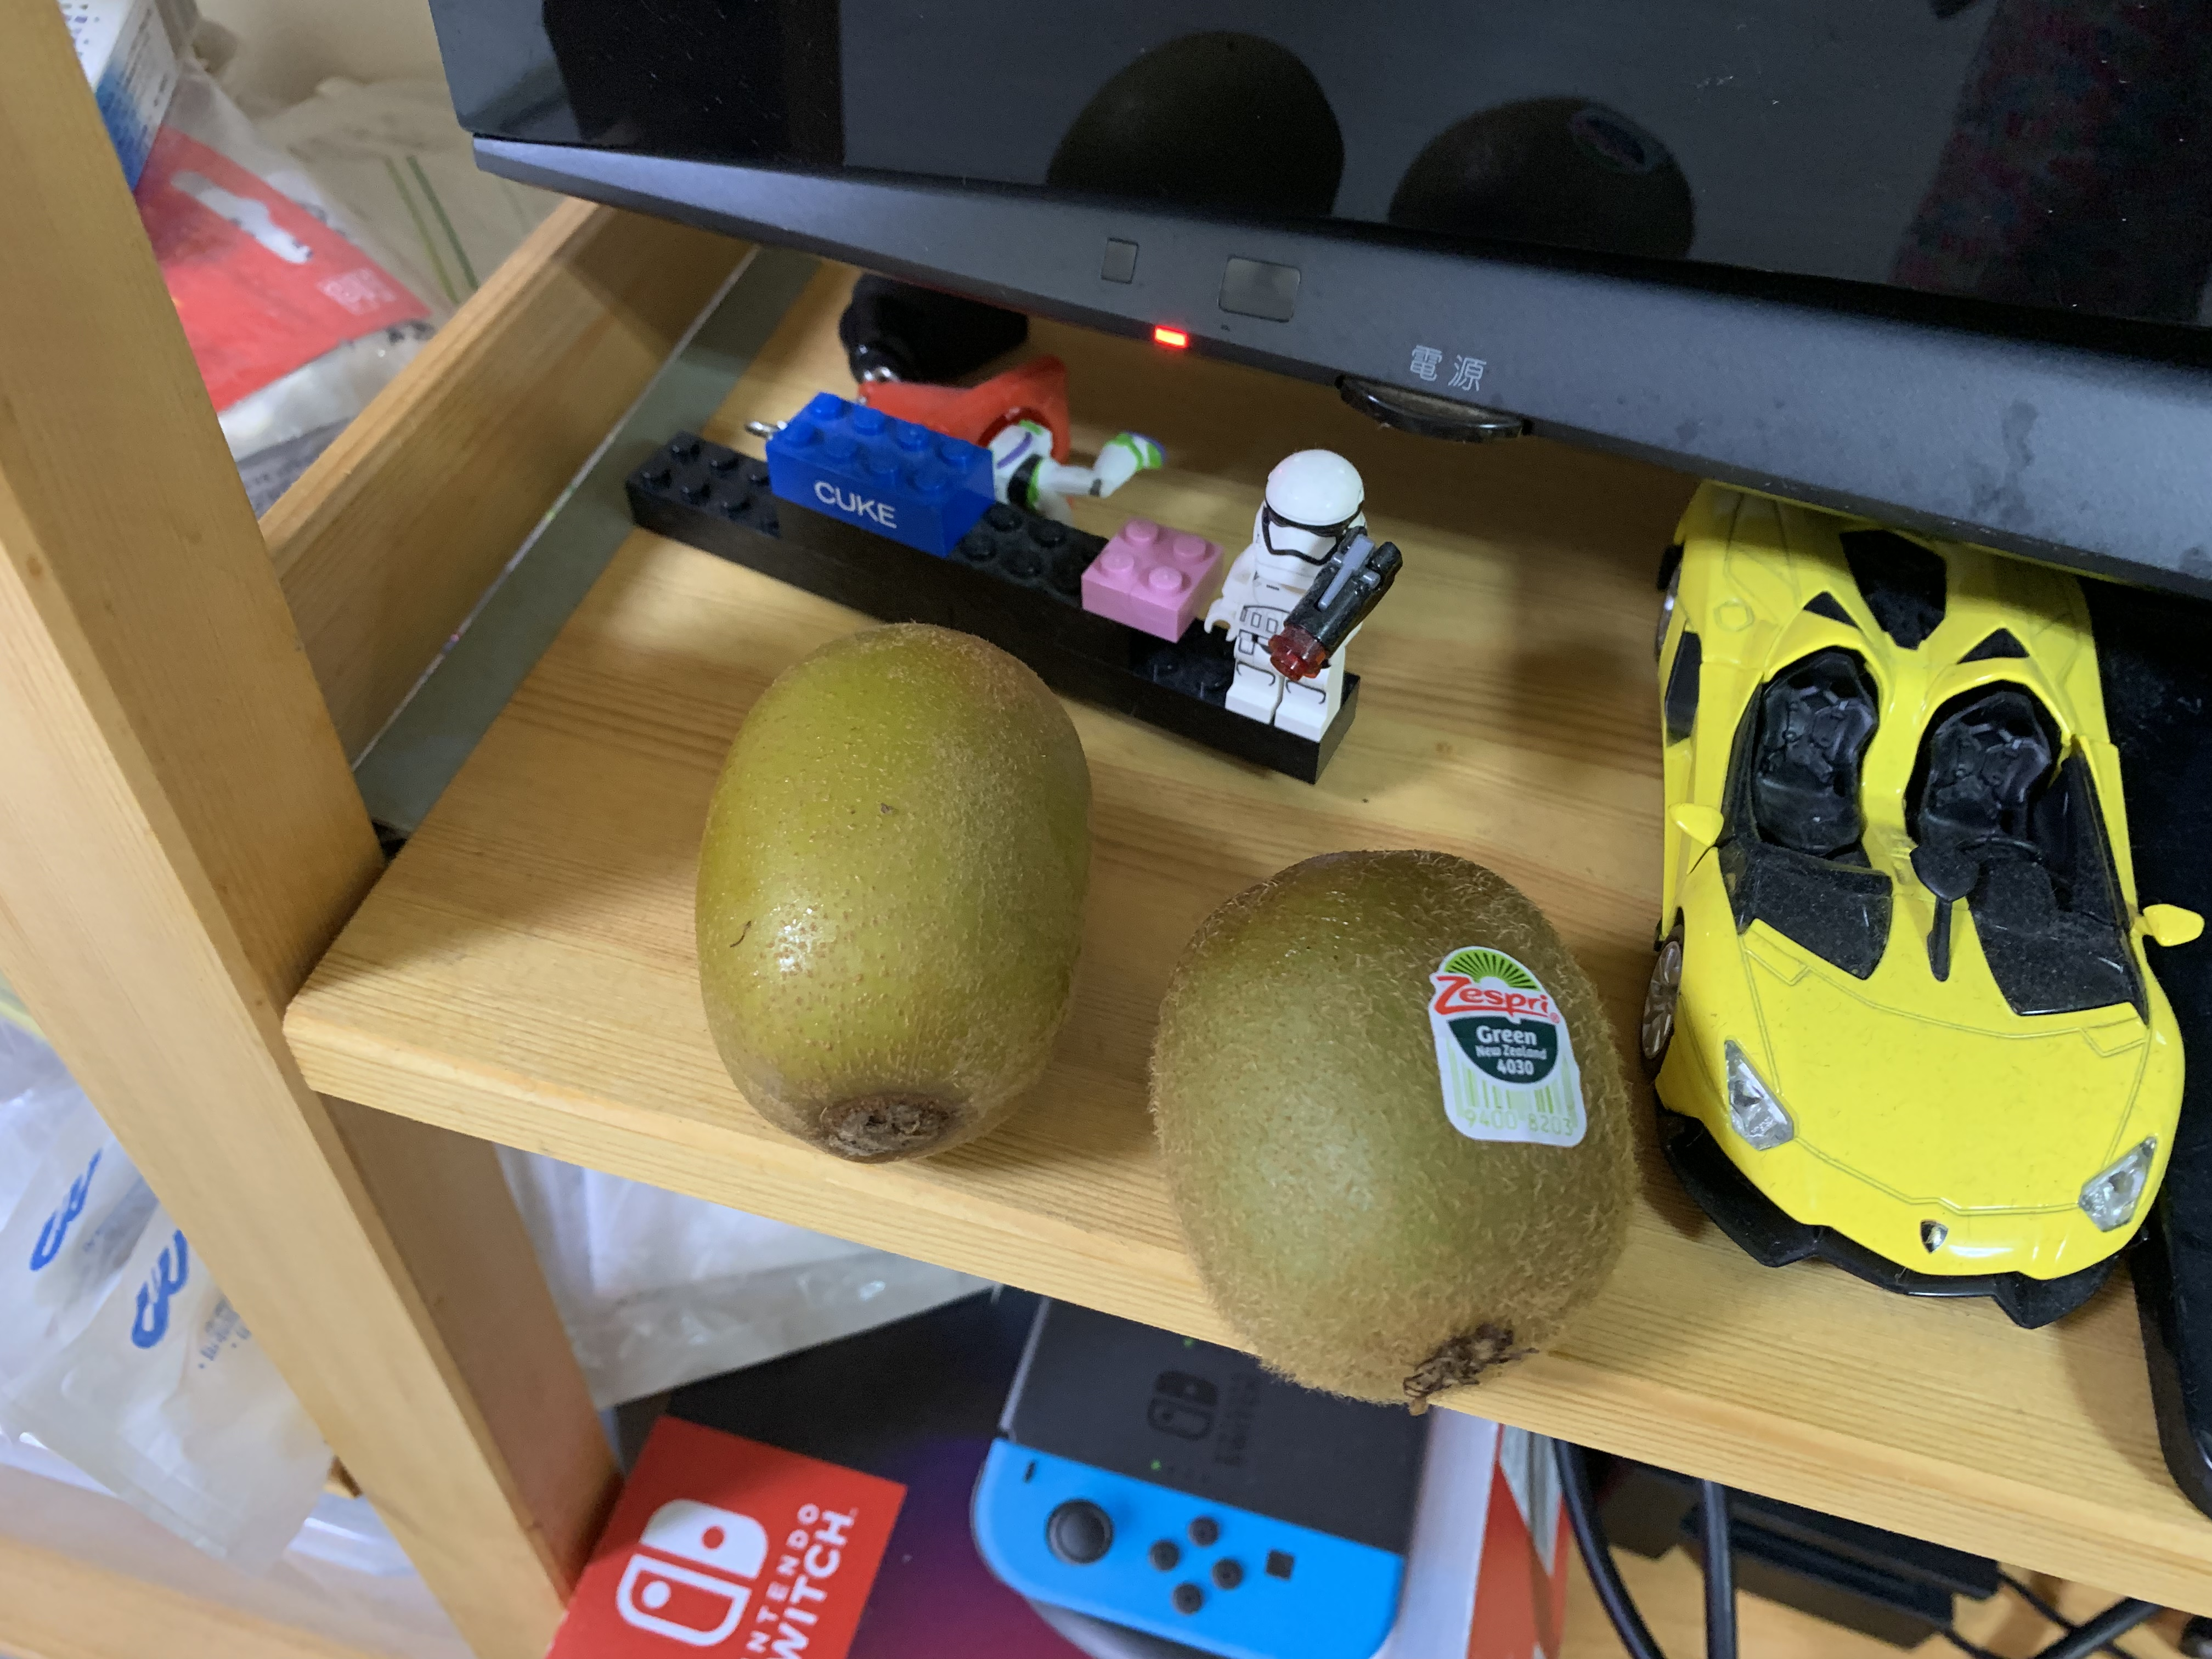kiwi: (1148, 849, 1641, 1406), (693, 624, 1092, 1162)
